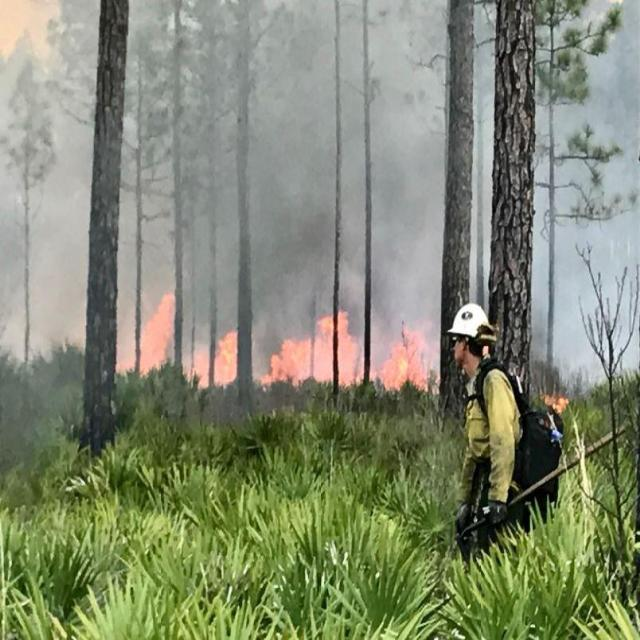Fire: (259, 298, 432, 398), (128, 275, 178, 379), (198, 328, 242, 391), (542, 388, 574, 415)
